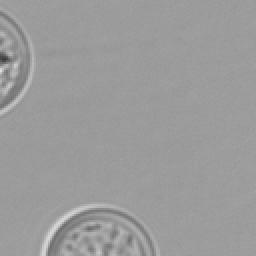picoshell: (40, 204, 158, 254), (0, 6, 34, 114)
